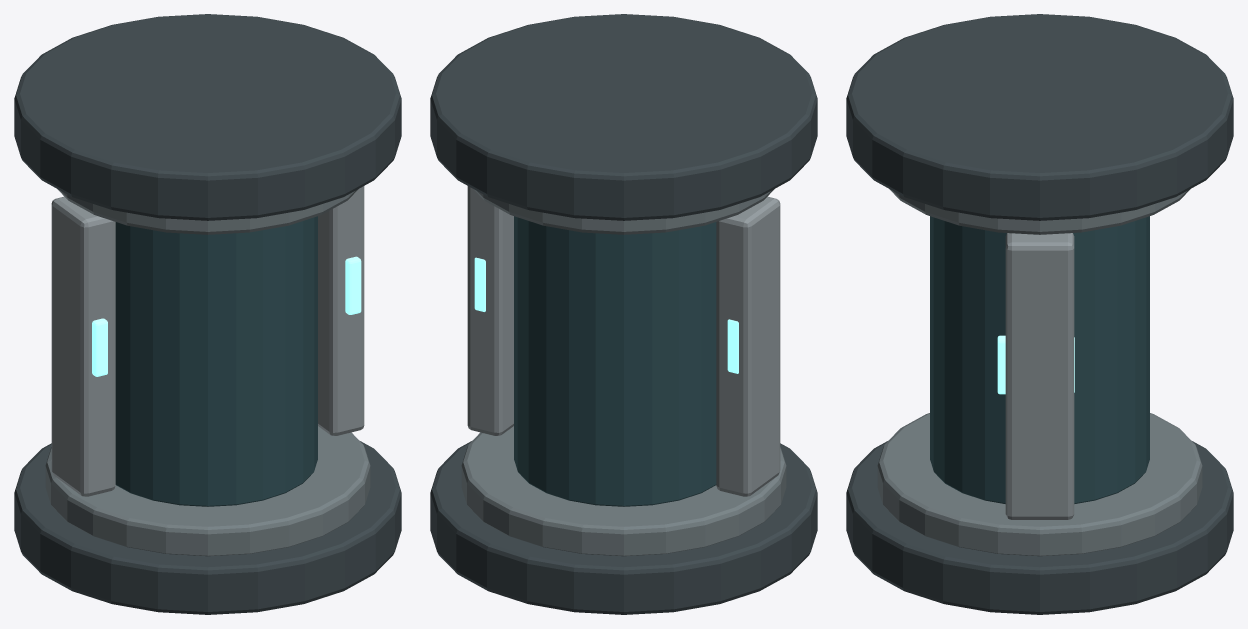
File: CryoCore_A.fbx
The picture shows the model from 3 angles, left to right: view 1: azimuth 30°, elevation 25°; view 2: azimuth 150°, elevation 25°; view 3: azimuth 270°, elevation 25°; orthographic projection.
Visible parts, largest first — view 1: Cryo Crown, Cryo Chamber, Cryo Base, Cryo Lower Ring, Cryo Stabilizer, Cryo Stabilizer.001, Cryo Upper Ring, Cryo Status Light.001, Cryo Status Light; view 2: Cryo Crown, Cryo Chamber, Cryo Base, Cryo Lower Ring, Cryo Stabilizer, Cryo Stabilizer.001, Cryo Upper Ring, Cryo Status Light.001, Cryo Status Light; view 3: Cryo Crown, Cryo Chamber, Cryo Base, Cryo Lower Ring, Cryo Stabilizer.001, Cryo Upper Ring, Cryo Status Light.001.
Boxes of the visible parts, x1=… form: Cryo Crown: x1=14, y1=14, x2=401, y2=220; Cryo Chamber: x1=115, y1=216, x2=317, y2=506; Cryo Base: x1=14, y1=441, x2=401, y2=614; Cryo Lower Ring: x1=45, y1=426, x2=370, y2=556; Cryo Stabilizer: x1=51, y1=196, x2=115, y2=496; Cryo Stabilizer.001: x1=318, y1=186, x2=364, y2=435; Cryo Upper Ring: x1=57, y1=189, x2=358, y2=234; Cryo Status Light.001: x1=345, y1=256, x2=361, y2=314; Cryo Status Light: x1=92, y1=318, x2=107, y2=376; Cryo Crown: x1=430, y1=14, x2=817, y2=220; Cryo Chamber: x1=514, y1=216, x2=716, y2=506; Cryo Base: x1=430, y1=441, x2=817, y2=614; Cryo Lower Ring: x1=461, y1=426, x2=786, y2=556; Cryo Stabilizer: x1=716, y1=196, x2=780, y2=496; Cryo Stabilizer.001: x1=467, y1=186, x2=513, y2=435; Cryo Upper Ring: x1=473, y1=189, x2=774, y2=234; Cryo Status Light.001: x1=474, y1=257, x2=485, y2=311; Cryo Status Light: x1=727, y1=319, x2=738, y2=373; Cryo Crown: x1=846, y1=14, x2=1233, y2=220; Cryo Chamber: x1=930, y1=216, x2=1149, y2=503; Cryo Base: x1=846, y1=441, x2=1233, y2=614; Cryo Lower Ring: x1=877, y1=413, x2=1202, y2=556; Cryo Stabilizer.001: x1=1005, y1=233, x2=1074, y2=519; Cryo Upper Ring: x1=889, y1=189, x2=1190, y2=234; Cryo Status Light.001: x1=997, y1=335, x2=1074, y2=394.
Bounding box in the file's own units: 3.1 × 3.9 × 3.1.
